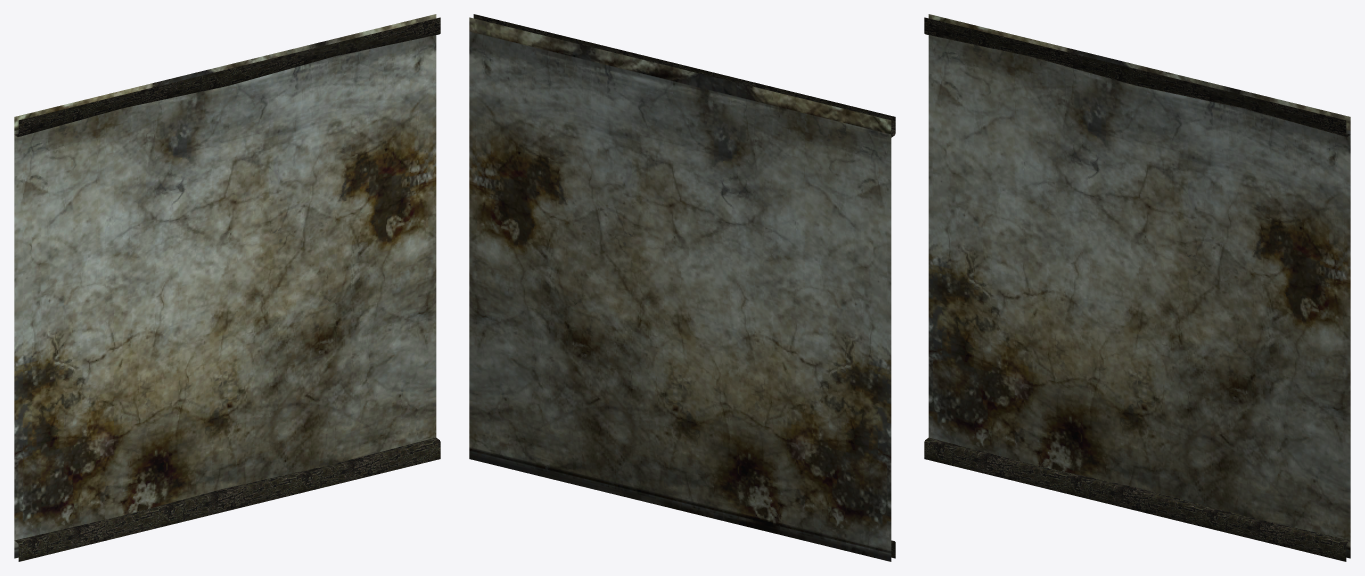
File: cellar_wall_03.DAE
3 views of the same model, side by side, from view 1: azimuth 30°, elevation 25°; view 2: azimuth 150°, elevation 25°; view 3: azimuth 330°, elevation 25° (orthographic).
Visible parts, largest first — view 1: Box014, Box017; view 2: Box014, Box017; view 3: Box014, Box017.
Boxes of the visible parts, x1,y1,x2,y2 form: Box014: (14, 14, 436, 558); Box017: (14, 17, 440, 561); Box014: (469, 17, 891, 561); Box017: (473, 14, 895, 558); Box014: (928, 14, 1350, 558); Box017: (924, 17, 1350, 561).
Size of the model in its own units: 4 by 4 by 0.0821.
